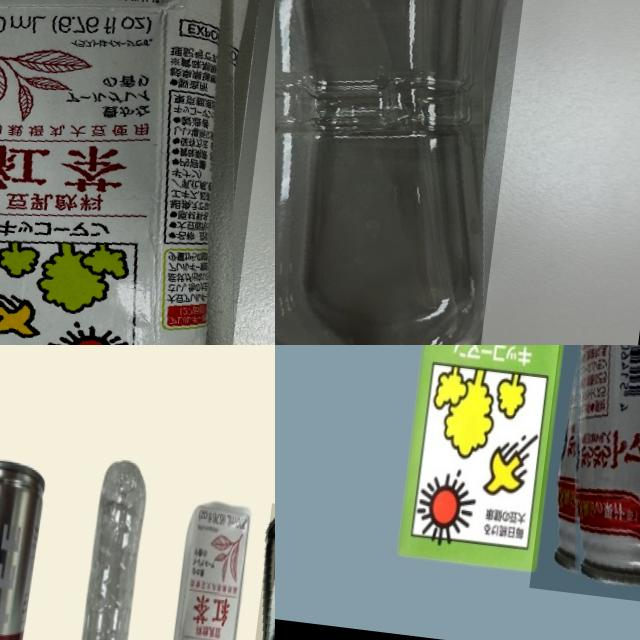Aluminium Foil: (0, 0, 275, 345), (388, 345, 600, 587), (157, 500, 252, 640)
Can: (528, 345, 640, 612), (0, 454, 51, 640)
Transparent Plastic Bottle: (275, 0, 537, 345), (58, 455, 151, 640)
